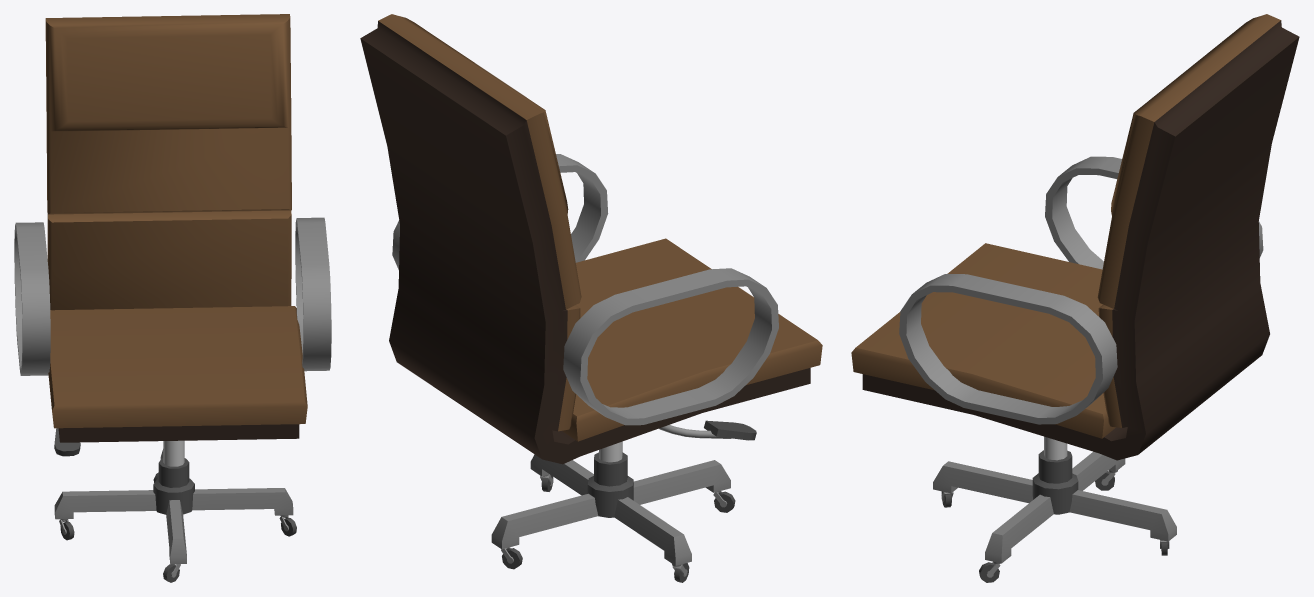
File: chair.fbx
3 views of the same model, side by side, from view 1: azimuth 30°, elevation 25°; view 2: azimuth 150°, elevation 25°; view 3: azimuth 270°, elevation 25° (orthographic). The views are drawn at different scales.
Visible parts, largest first — view 1: Cube.021; view 2: Cube.021; view 3: Cube.021.
Part boxes in pixels (x1=…): Cube.021: x1=14, y1=14, x2=331, y2=582; Cube.021: x1=360, y1=14, x2=822, y2=582; Cube.021: x1=851, y1=14, x2=1299, y2=582.
Size of the model in its own units: 119 by 159 by 128.
